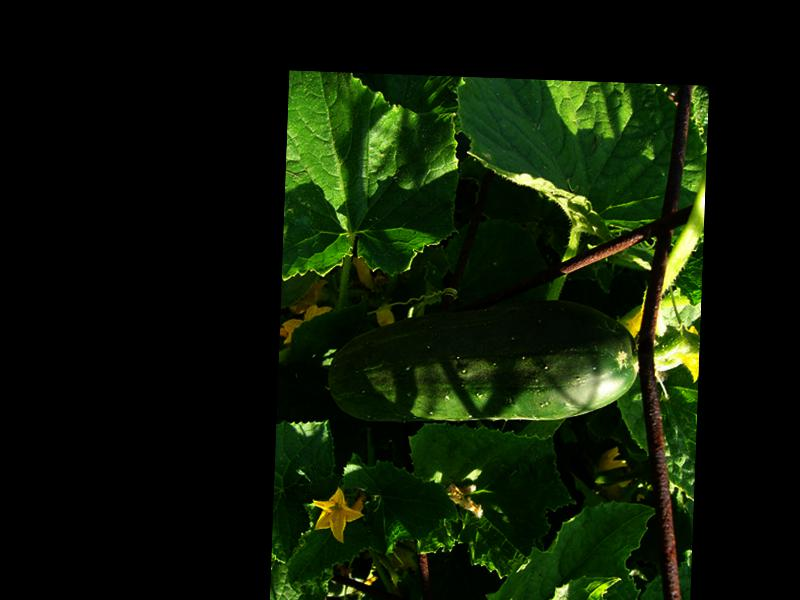Cucumber: (325, 289, 640, 431)
